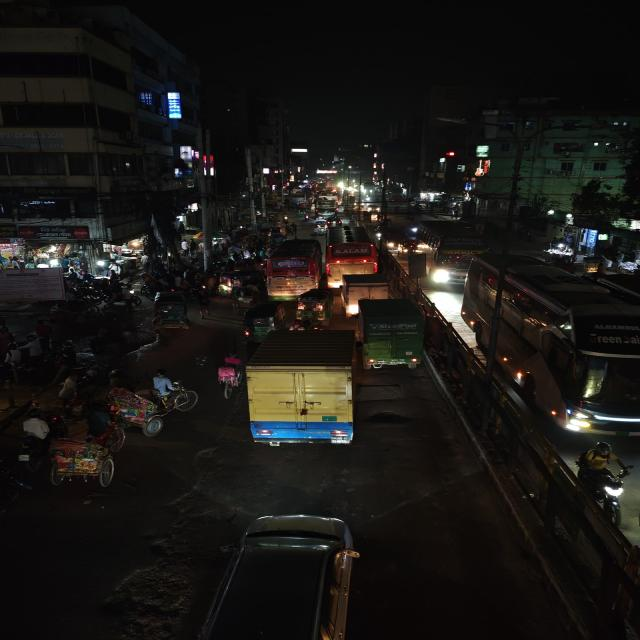bicycle: (212, 353, 243, 403)
bus: (461, 250, 640, 437), (418, 220, 490, 288), (264, 237, 326, 299), (326, 240, 380, 278)
car: (208, 510, 368, 640)
cng: (148, 290, 194, 335), (240, 300, 287, 340), (295, 288, 339, 325), (312, 222, 329, 236)
motorcycle: (573, 440, 633, 518)
pedestrian: (54, 374, 86, 408), (18, 412, 52, 443), (32, 318, 55, 352)
rickshaw: (41, 414, 127, 488), (101, 382, 181, 436)
truck: (243, 328, 361, 452), (356, 297, 426, 373), (325, 239, 380, 278)
